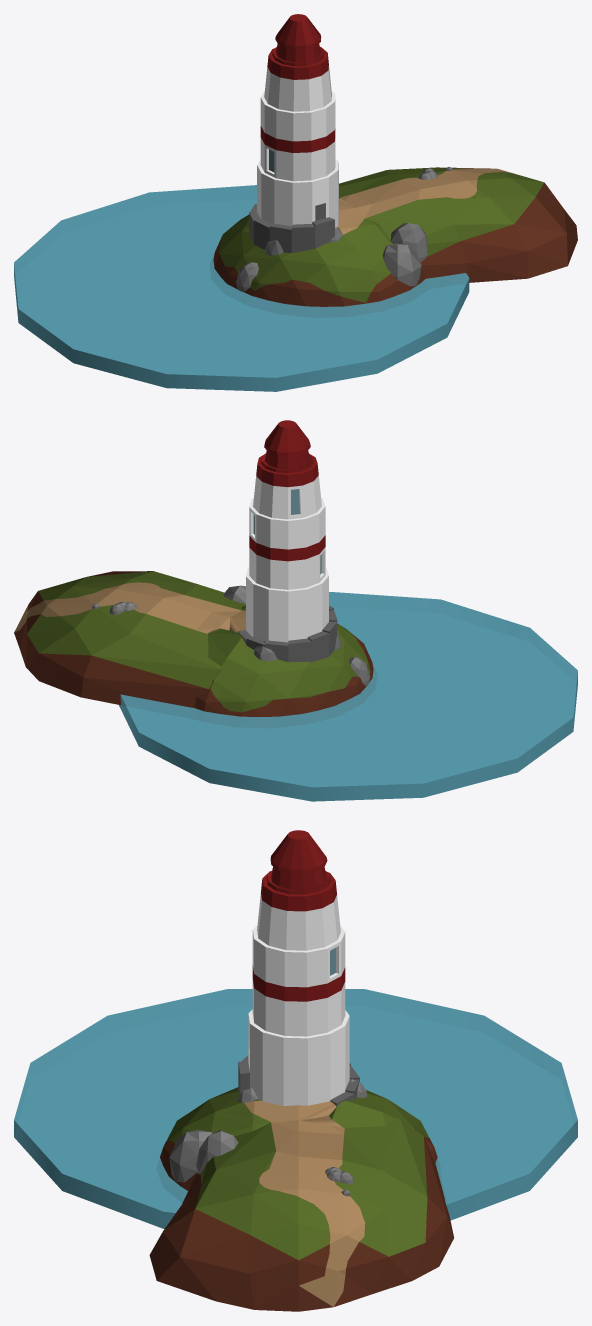
File: Coast_1261.gltf
3 views of the same model, one above another, from view 1: azimuth 30°, elevation 25°; view 2: azimuth 150°, elevation 25°; view 3: azimuth 270°, elevation 25° (orthographic). The views are drawn at different scales.
Parts seen in each view (by area): view 1: node-0; view 2: node-0; view 3: node-0.
Part boxes in pixels (bbox=[...]): node-0: bbox=[14, 14, 577, 391]; node-0: bbox=[14, 420, 577, 801]; node-0: bbox=[14, 830, 577, 1311].
Size of the model in its own units: 920 by 447 by 704.
